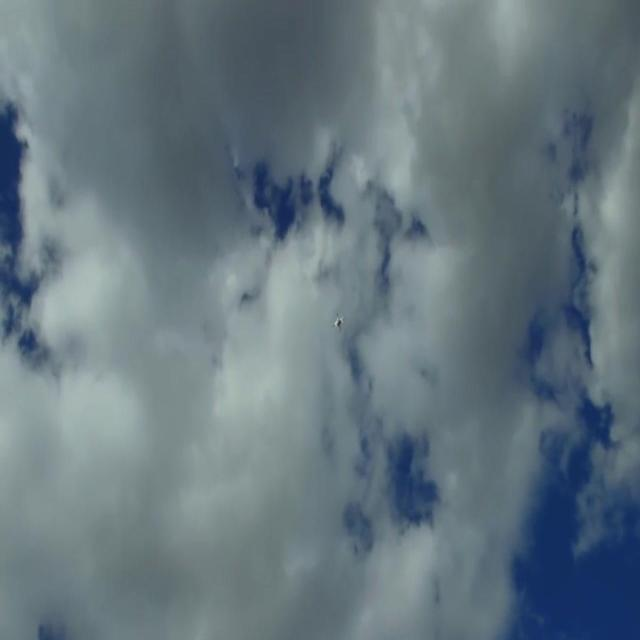drone: (332, 315, 345, 334)
